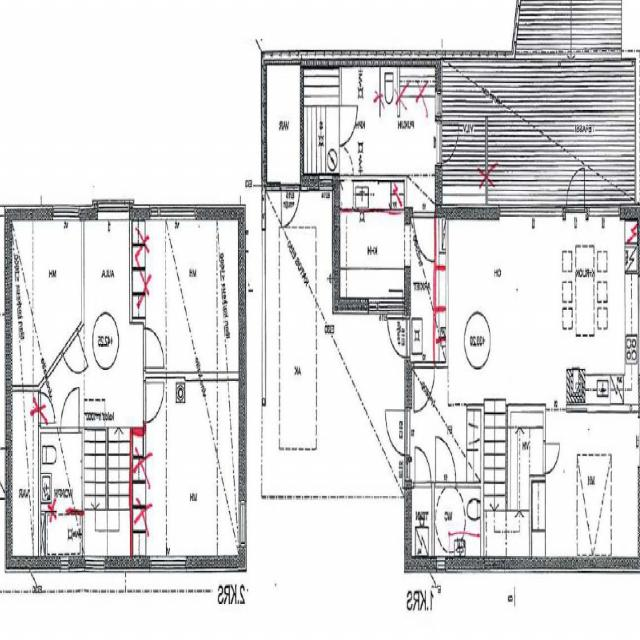door: (62, 329, 88, 388), (384, 410, 410, 456), (413, 213, 434, 265), (436, 436, 456, 488), (414, 361, 434, 413), (387, 318, 411, 357), (547, 404, 566, 453), (143, 382, 165, 423), (437, 124, 460, 163), (281, 184, 299, 229), (144, 328, 164, 368), (60, 388, 78, 432), (339, 106, 358, 145), (414, 446, 431, 488), (543, 443, 559, 472)
